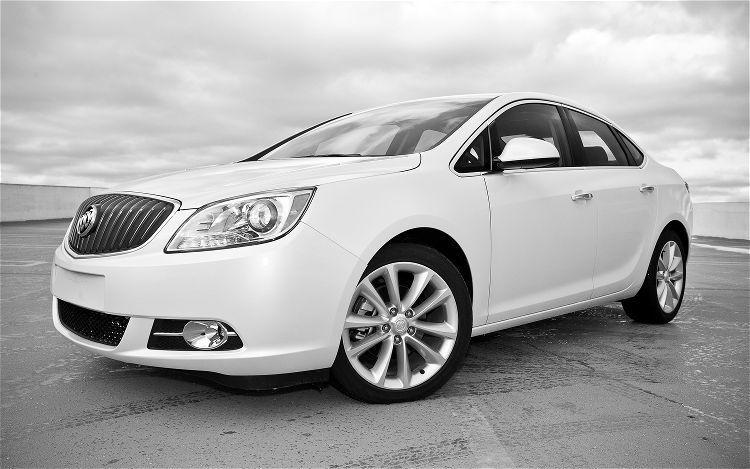car: (50, 93, 696, 403)
